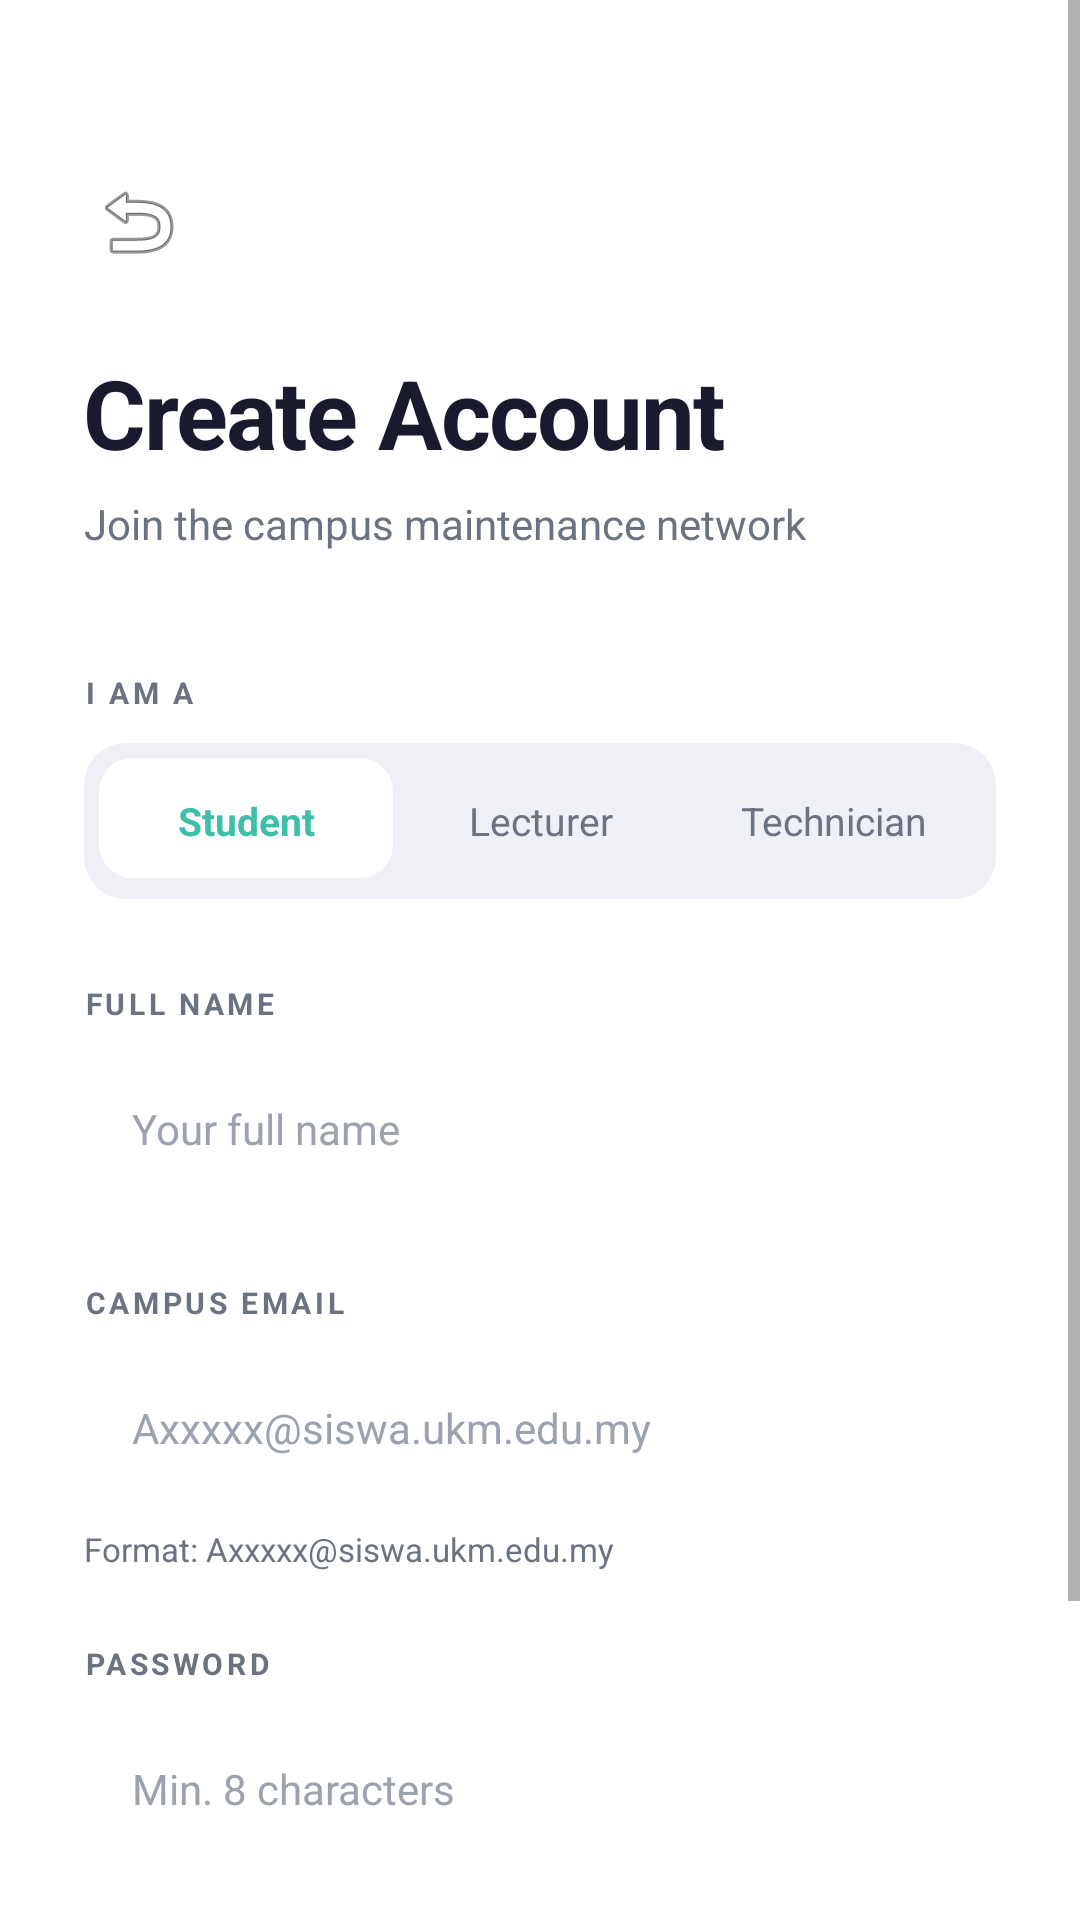

Icon click points for this 1080 × 1920 phone screenshot, format point (x, y):
Back: point (139, 222)
